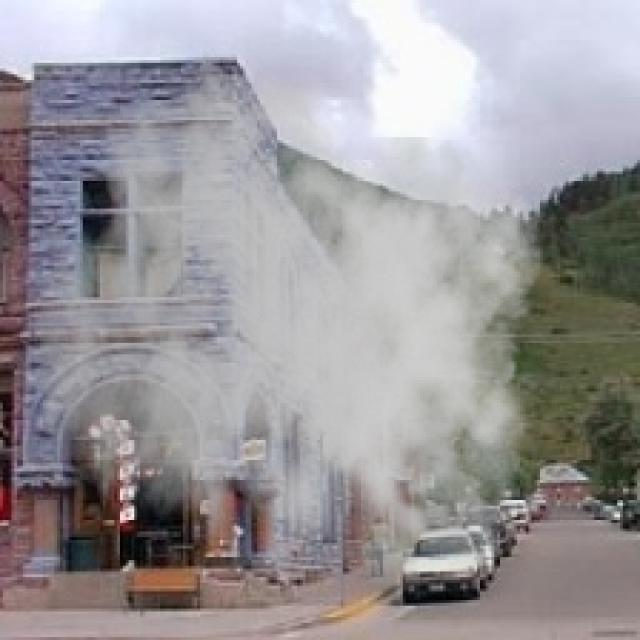smoke: (31, 51, 560, 614)
